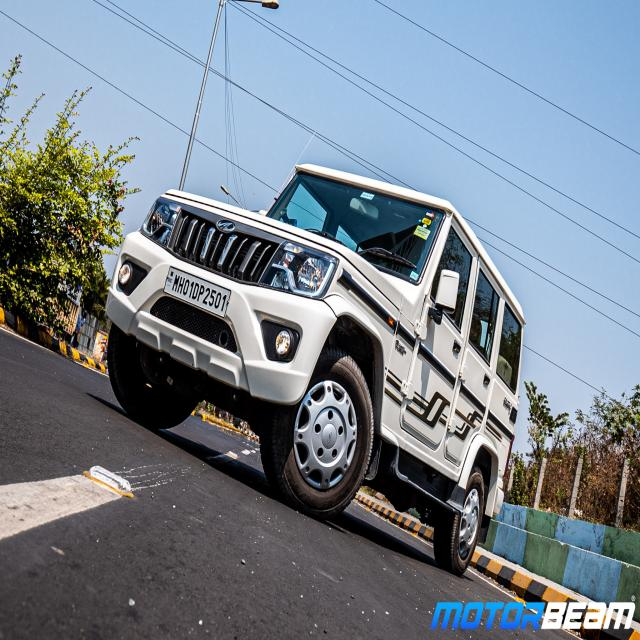light_vehicle: (105, 166, 521, 574)
